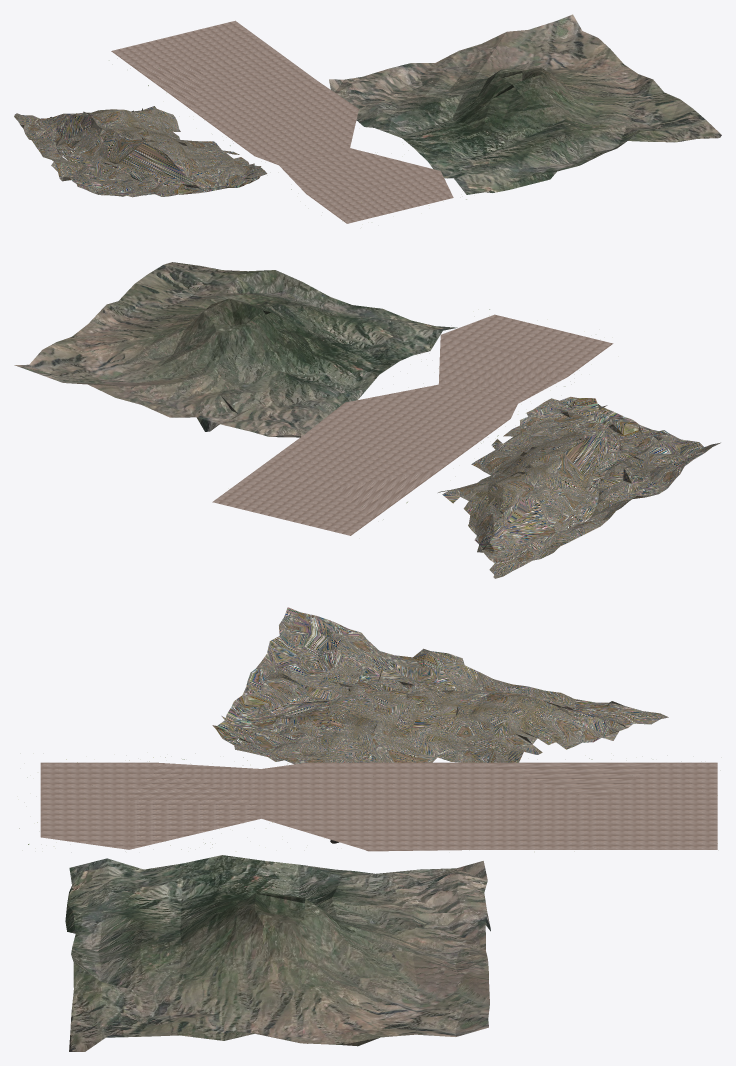
Rendered from Desert_field.glb.
3 views of the same model, one above another, from view 1: azimuth 30°, elevation 25°; view 2: azimuth 150°, elevation 25°; view 3: azimuth 270°, elevation 25° (orthographic). The views are drawn at different scales.
Visible parts, largest first — view 1: mountain, Площина, objct; view 2: mountain, Площина, objct; view 3: mountain, Площина, objct.
Boxes of the visible parts, bbox=[...] form: mountain: bbox=[329, 14, 721, 194]; Площина: bbox=[111, 20, 453, 223]; objct: bbox=[14, 106, 267, 197]; mountain: bbox=[14, 262, 457, 437]; Площина: bbox=[212, 314, 613, 535]; objct: bbox=[438, 396, 720, 578]; mountain: bbox=[65, 855, 490, 1051]; Площина: bbox=[40, 762, 717, 851]; objct: bbox=[212, 607, 668, 764].
Size of the model in its own units: 440 by 39.88 by 331.
Materials: 9 (6 with a texture image).
